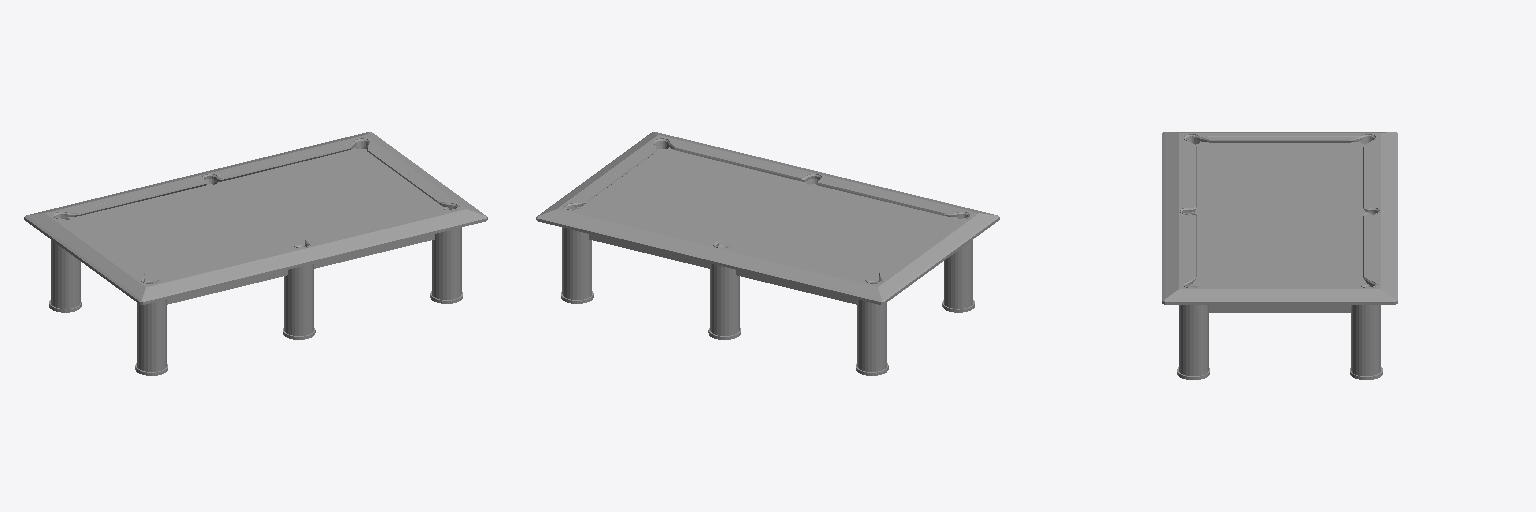
File: billar.obj
The picture shows the model from 3 angles: view 1: azimuth 30°, elevation 25°; view 2: azimuth 150°, elevation 25°; view 3: azimuth 270°, elevation 25°; orthographic projection.
Bounding box in the file's own units: 3.39 × 0.8469 × 2.